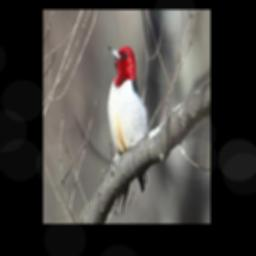Woodpecker: (105, 44, 149, 217)
